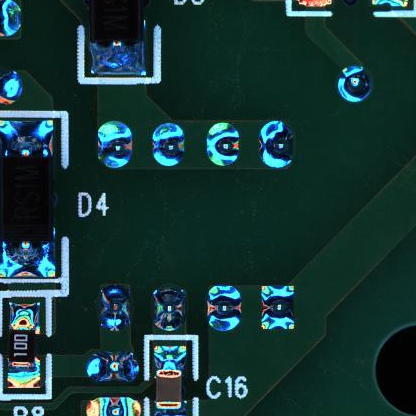spot: (97, 119, 134, 170), (259, 120, 295, 171), (260, 281, 296, 332), (205, 286, 243, 333), (151, 285, 186, 333), (87, 353, 141, 384), (207, 121, 241, 169), (99, 283, 131, 333), (151, 123, 185, 168), (337, 64, 375, 103), (85, 394, 141, 416)
